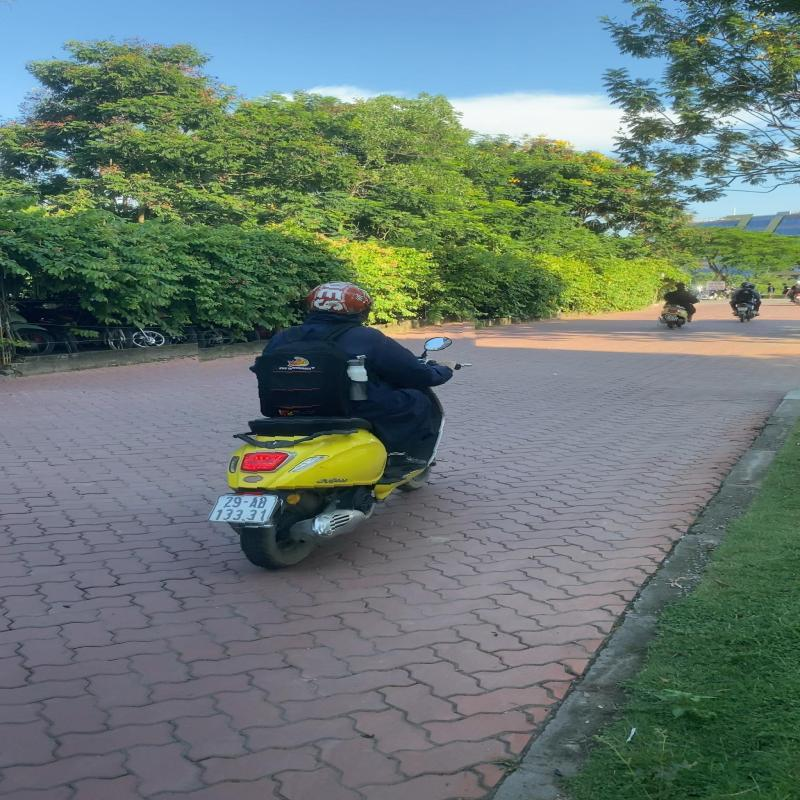helmet: (299, 280, 377, 322)
licenseplate: (207, 492, 282, 528), (665, 316, 678, 321)
motorcyclist: (198, 276, 484, 573), (658, 282, 700, 330)
nohelmet: (675, 284, 686, 290)
